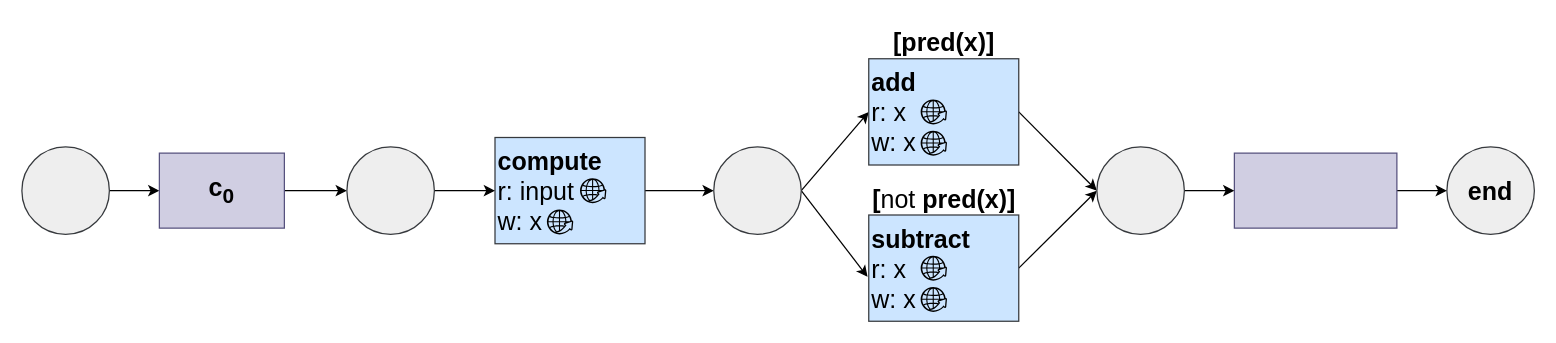
The diagram is 1556 pixels wide and 343 high, and some of its shapes have lost their labels. The box of each missing label's shape, as (x1, y1, x2, y2) in pixels:
start: (21, 146, 109, 234)
Start Phase 2 c 0: (1233, 152, 1397, 228)
